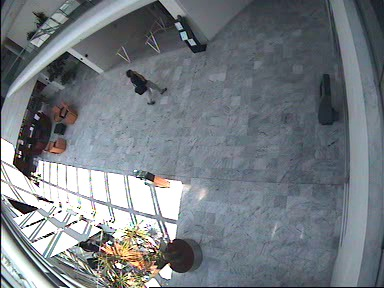person: (124, 68, 165, 105)
